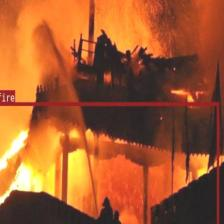fire: (0, 101, 218, 224)
